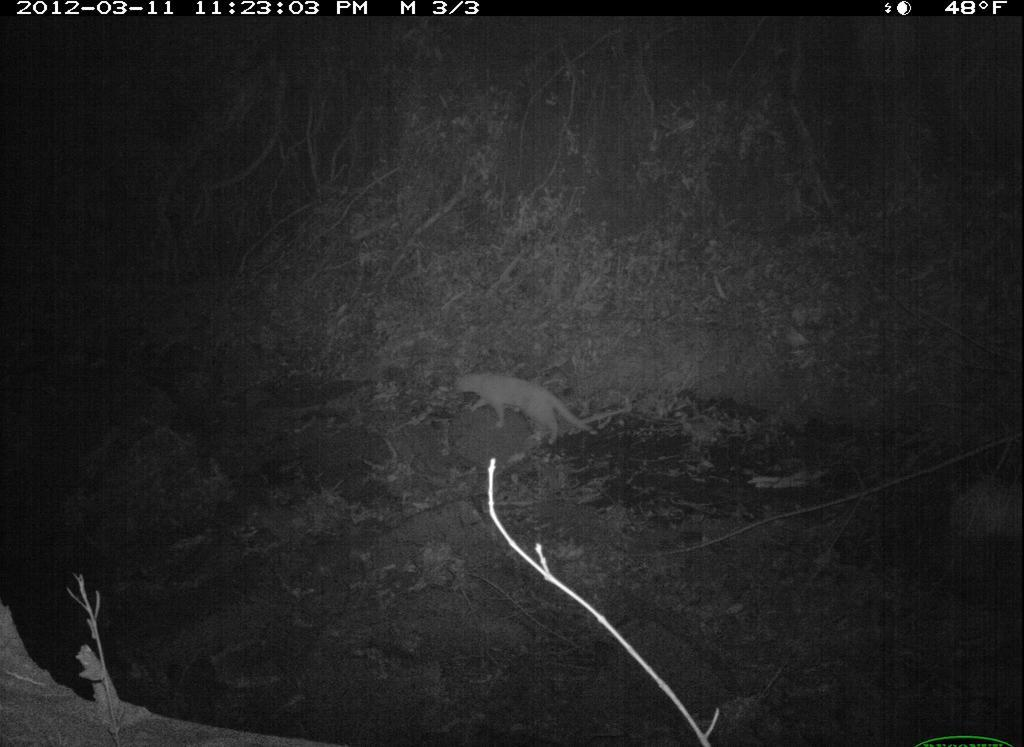cat: (434, 365, 611, 463)
